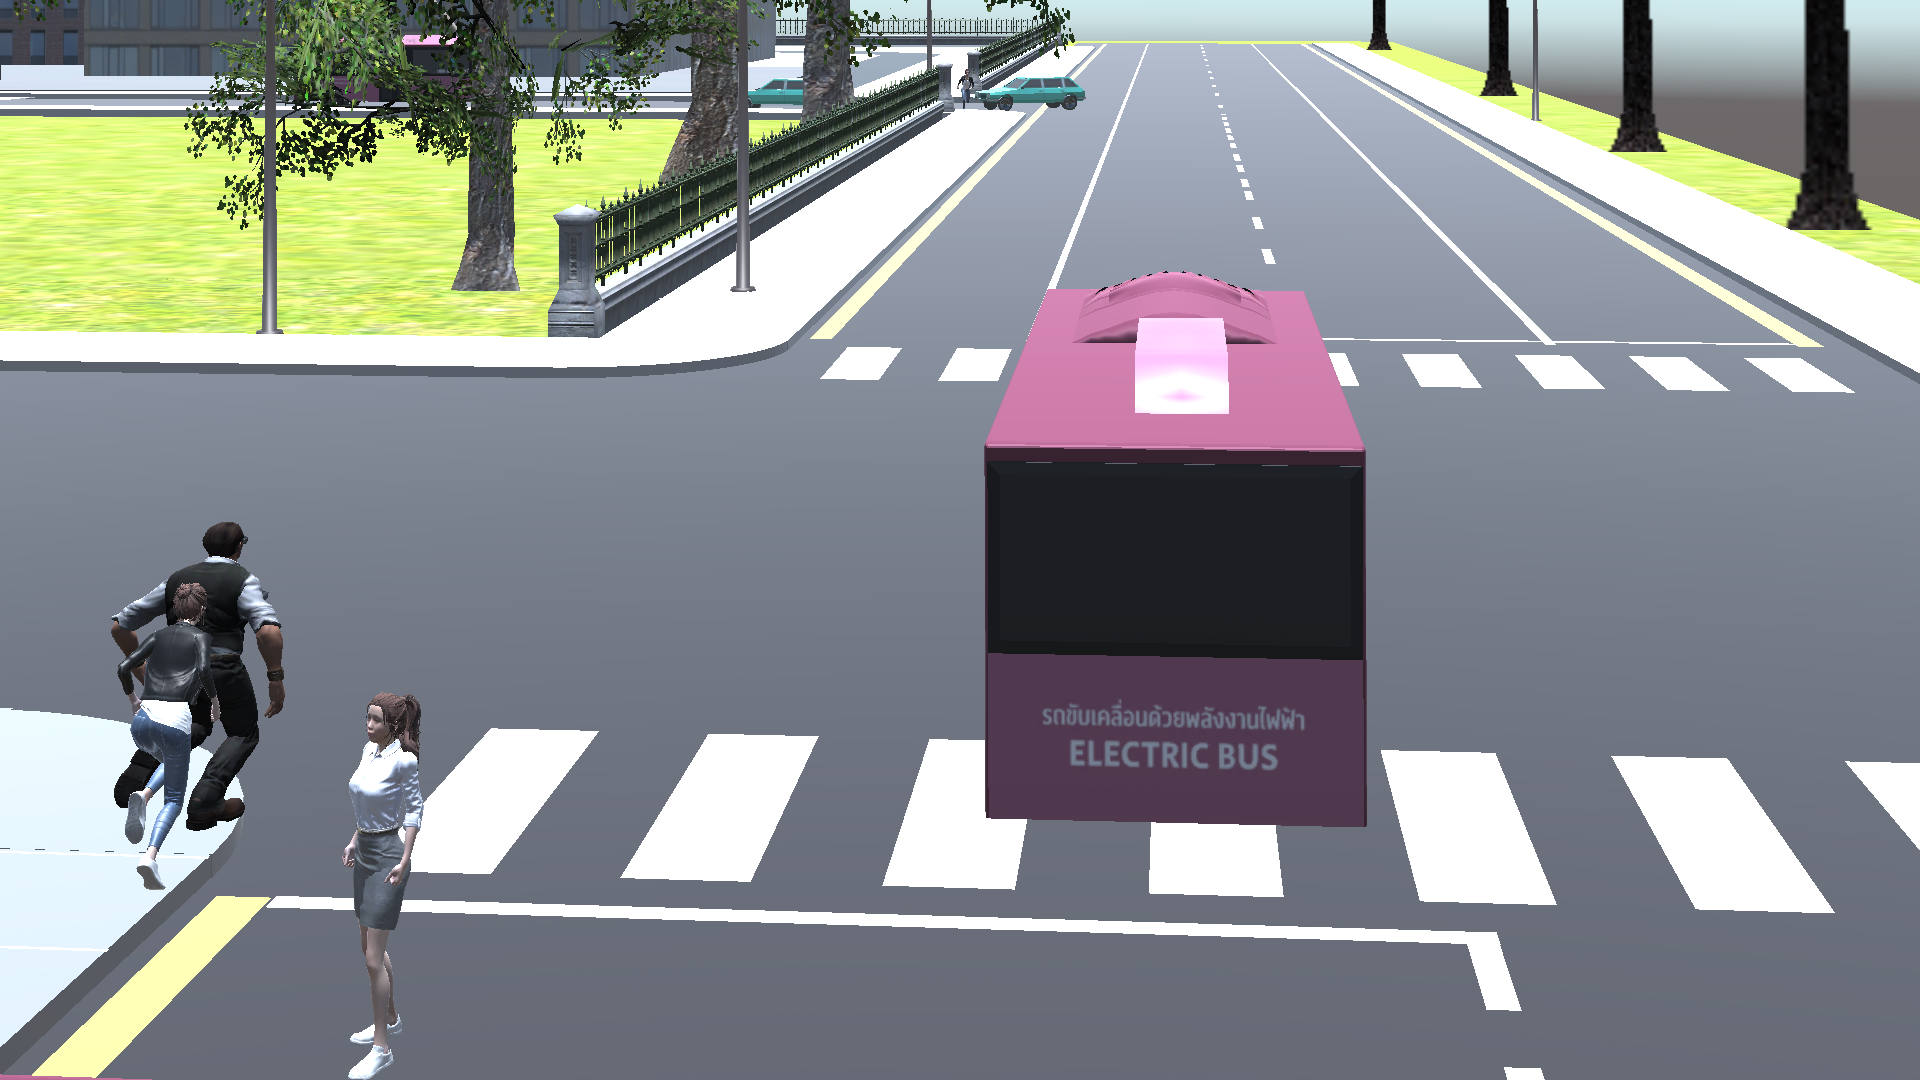pedestrian: (333, 687, 429, 1077), (206, 505, 296, 862), (120, 584, 205, 891), (951, 68, 974, 110)
